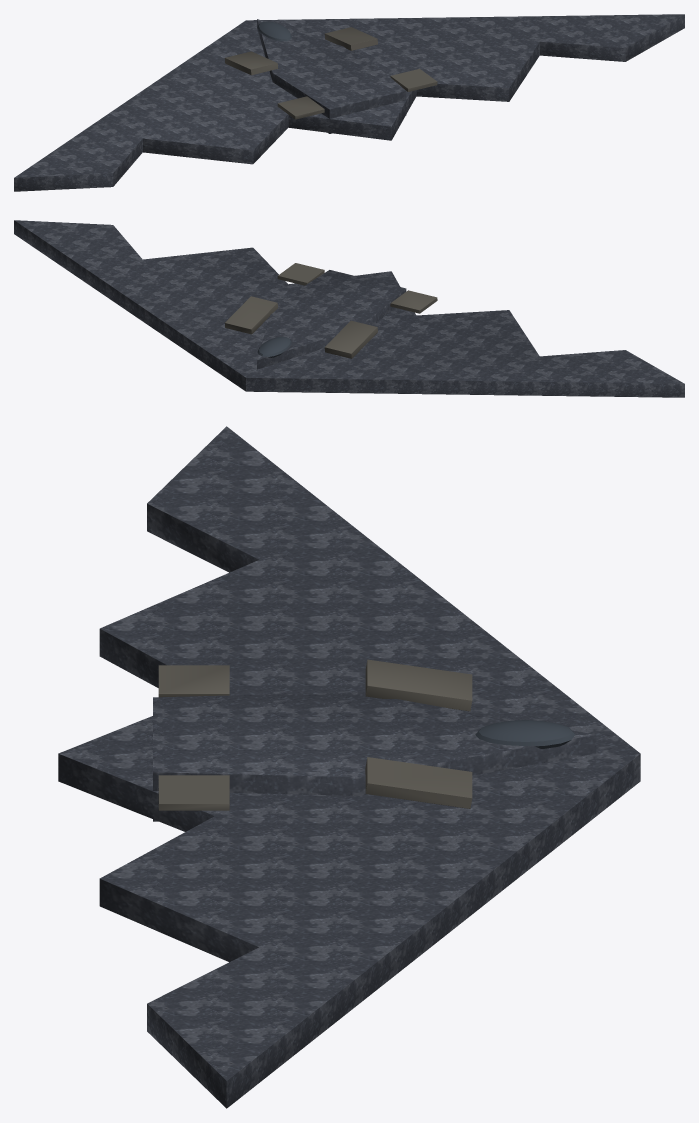
File: air_e4_us_stealthbomber_LOD1.glb
The picture shows the model from 3 angles, top to bottom: view 1: azimuth 30°, elevation 25°; view 2: azimuth 150°, elevation 25°; view 3: azimuth 270°, elevation 25°; orthographic projection. The views are drawn at different scales.
Parts seen in each view (by area): view 1: air_e4_us_stealthbomber_LOD1_body, air_e4_us_stealthbomber_LOD1_deck, air_e4_us_stealthbomber_LOD1_glass; view 2: air_e4_us_stealthbomber_LOD1_body, air_e4_us_stealthbomber_LOD1_deck, air_e4_us_stealthbomber_LOD1_glass; view 3: air_e4_us_stealthbomber_LOD1_body, air_e4_us_stealthbomber_LOD1_deck, air_e4_us_stealthbomber_LOD1_glass.
Part boxes in pixels (<box>): air_e4_us_stealthbomber_LOD1_body: <box>14,14,684,191</box>; air_e4_us_stealthbomber_LOD1_deck: <box>224,27,437,119</box>; air_e4_us_stealthbomber_LOD1_glass: <box>257,21,291,41</box>; air_e4_us_stealthbomber_LOD1_body: <box>14,220,684,397</box>; air_e4_us_stealthbomber_LOD1_deck: <box>224,263,437,358</box>; air_e4_us_stealthbomber_LOD1_glass: <box>257,336,291,357</box>; air_e4_us_stealthbomber_LOD1_body: <box>58,426,640,1108</box>; air_e4_us_stealthbomber_LOD1_deck: <box>158,659,472,810</box>; air_e4_us_stealthbomber_LOD1_glass: <box>475,720,575,748</box>.
Bounding box in the file's own units: 52.39 × 2.35 × 19.69.
Materials: 3 (1 with a texture image).
